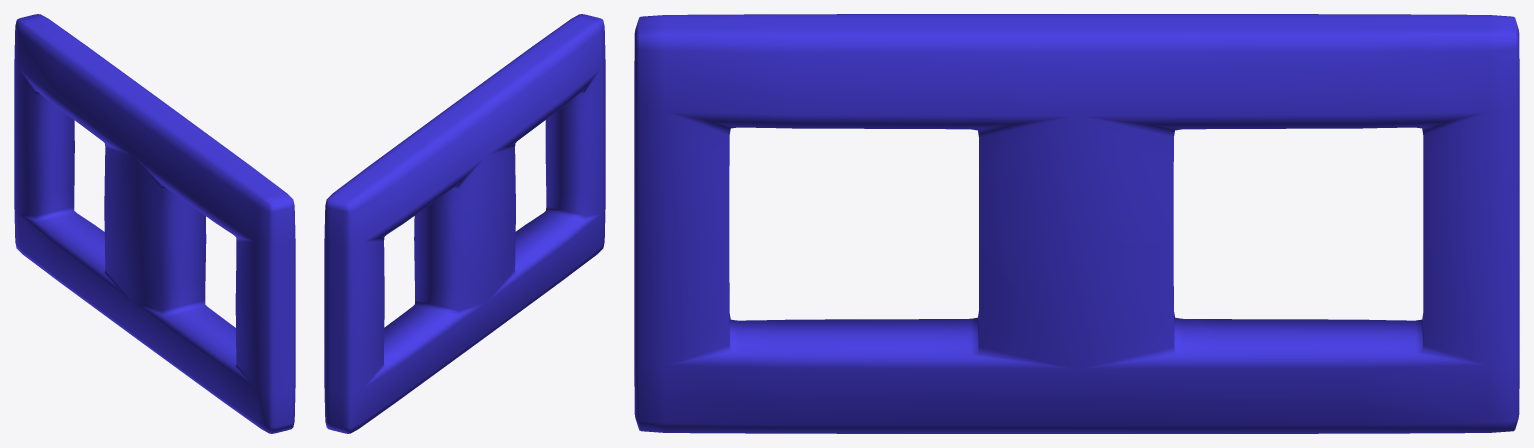
The model's file is Duvar2xPencereli.fbx.
3 views of the same model, side by side, from view 1: azimuth 30°, elevation 25°; view 2: azimuth 150°, elevation 25°; view 3: azimuth 270°, elevation 25° (orthographic). The views are drawn at different scales.
Visible parts, largest first — view 1: Duvar2xPencereli; view 2: Duvar2xPencereli; view 3: Duvar2xPencereli.
Part boxes in pixels (<box>): Duvar2xPencereli: <box>14,14,295,433</box>; Duvar2xPencereli: <box>324,14,605,433</box>; Duvar2xPencereli: <box>634,14,1519,433</box>.
Bounding box in the file's own units: 41.87 × 200 × 400.
